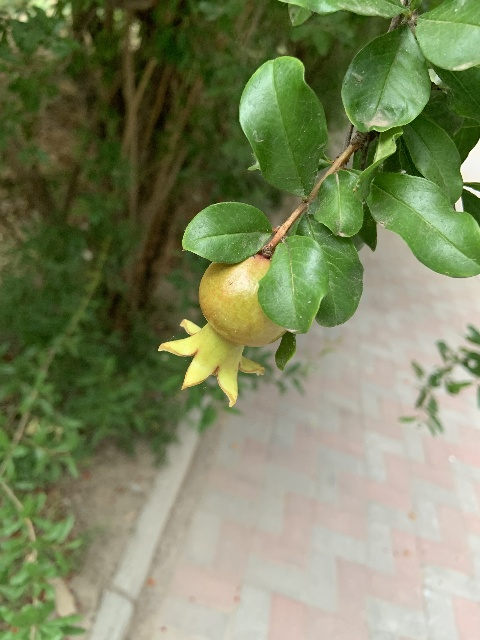mid-growth: (158, 255, 288, 408)
